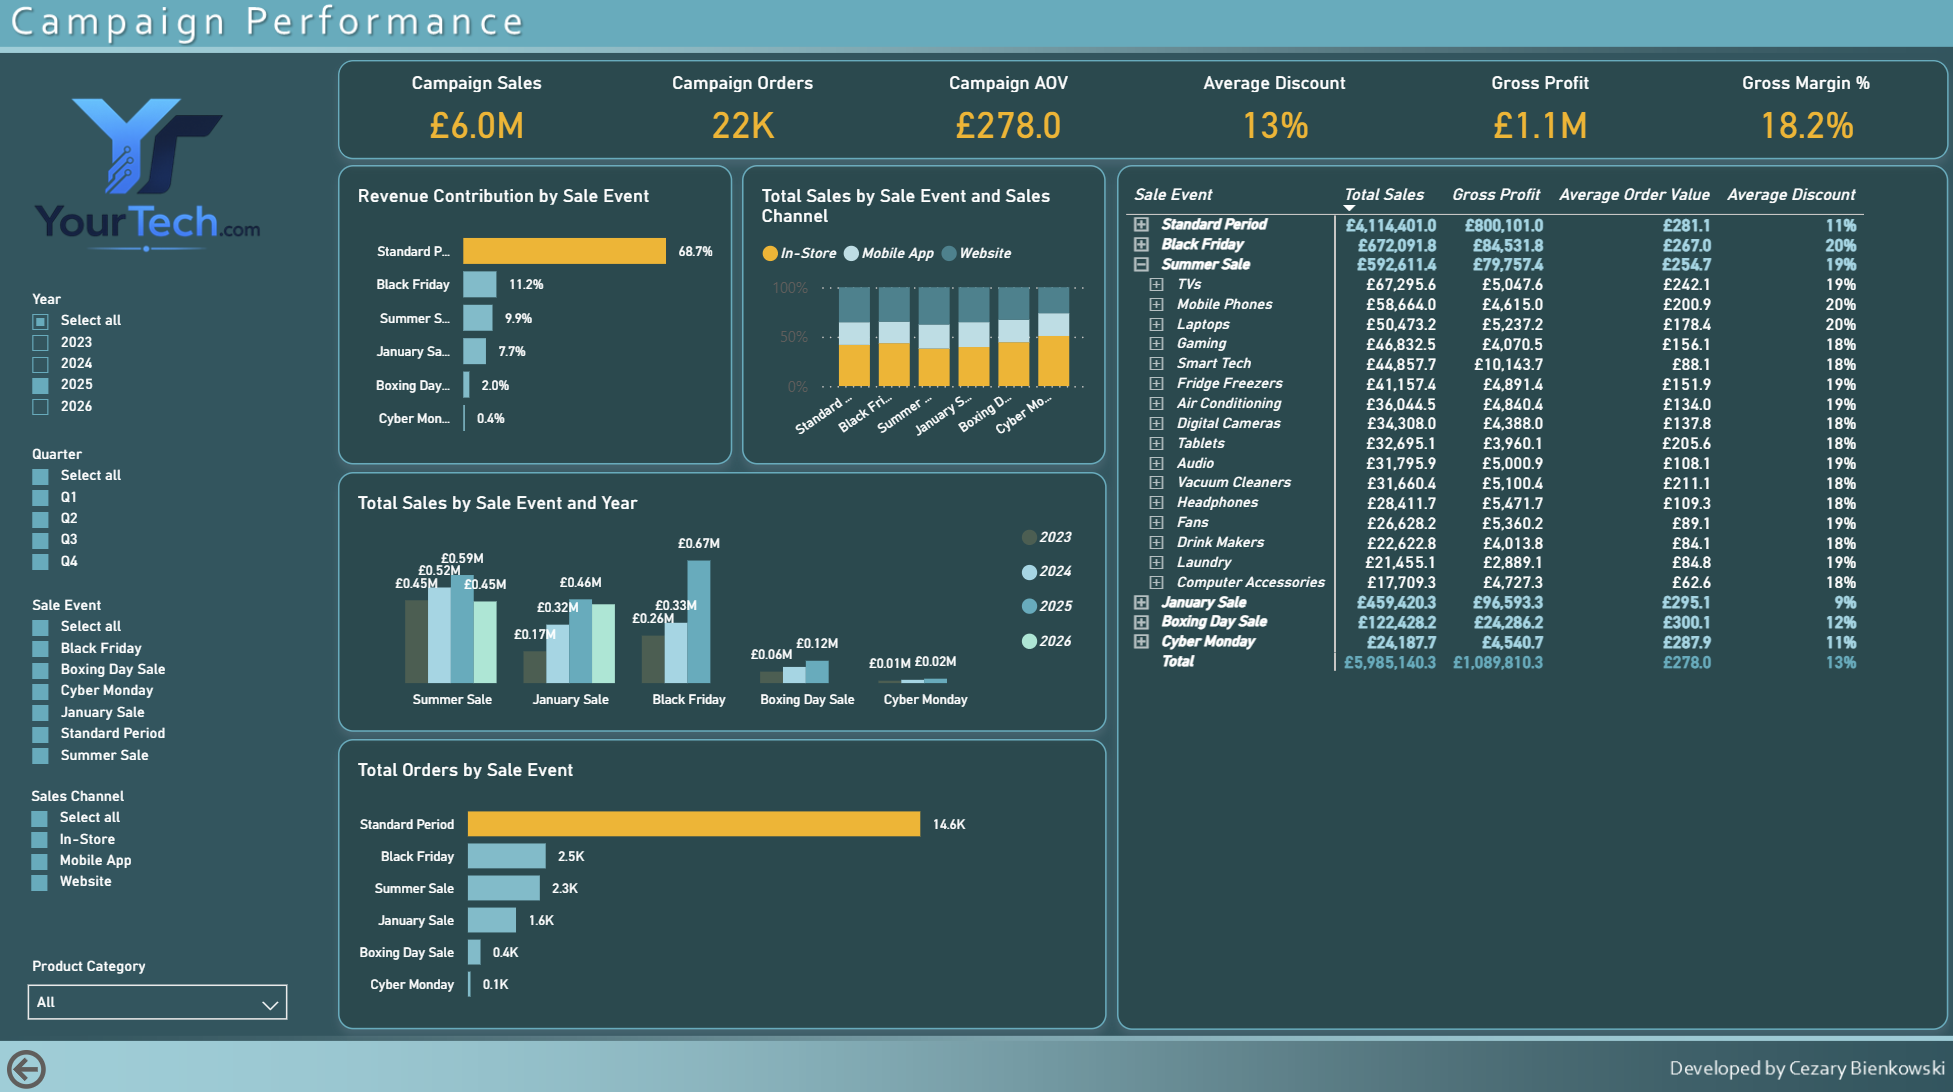

What the dashboard file says about the page in this screenshot:
{"tool":"powerbi","page":{"name":"Campaign Performance","canvas":[1280,720],"ordinal":2},"visuals":[{"type":"barChart","title":"Revenue Contribution by Sale Event","fields":{"Category":["dSale Event.Sale_Event_Name"],"Y":["_Measures.Campaign Sales %"]},"box":[221.2,110.6,258.5,196.3],"z":0},{"type":"barChart","title":"Total Orders by Sale Event","fields":{"Category":["dSale Event.Sale_Event_Name"],"Y":["_Measures.Total Orders"]},"box":[221.2,486.2,502.6,190.4],"z":1000},{"type":"lineChart","fields":{"Category":["dDate.Month"],"Series":["dSale Event.Sale_Event_Name"],"Y":["_Measures.Total Sales"]},"box":[221.2,311.5,502.6,169.5],"z":2000},{"type":"hundredPercentStackedColumnChart","fields":{"Category":["dSale Event.Sale_Event_Name"],"Series":["fSales.Sales Channel"],"Y":["_Measures.Total Sales"]},"box":[485.6,110.6,238.2,196.3],"z":3000},{"type":"pivotTable","fields":{"Rows":["dSale Event.Sale_Event_Name","dProducts.Product Category","dProducts.Product Name"],"Values":["_Measures.Total Sales","_Measures.Gross Profit","_Measures.Average Order Value","_Measures.Average Discount"]},"box":[731,105.4,544.5,566.1],"z":4000},{"type":"cardVisual","fields":{"Data":["_Measures.Campaign Sales","_Measures.Campaign Orders","_Measures.Campaign AOV","_Measures.Average Discount","_Measures.Gross Profit","_Measures.Gross Margin %"]},"box":[221.2,41.9,1054.2,64.8],"z":5000},{"type":"slicer","fields":{"Values":["dDate.Year"]},"box":[13,192.5,179.6,91.6],"z":6000},{"type":"slicer","fields":{"Values":["dDate.Quarter"]},"box":[13,294,179.6,88.7],"z":7000},{"type":"slicer","fields":{"Values":["dSale Event.Sale_Event_Name"]},"box":[13,392.5,179.6,115.4],"z":8000},{"type":"slicer","fields":{"Values":["dProducts.Product Category"]},"box":[13,628.8,180.3,42.5],"z":9000},{"type":"slicer","fields":{"Values":["fSales.Sales Channel"]},"box":[12.4,517.6,180,84.4],"z":10000},{"type":"actionButton","box":[0,685,100.2,34.5],"z":11000}]}

Visuals, with their boxes in screenshot pixels (x1, y1, x2, y2), scaled from the page's 1280x720 canvas onto the 1953x1092 screenshot:
"Revenue Contribution by Sale Event" barChart: {"x1": 338, "y1": 168, "x2": 732, "y2": 465}
"Total Orders by Sale Event" barChart: {"x1": 338, "y1": 737, "x2": 1104, "y2": 1026}
lineChart - dDate.Month x dSale Event.Sale_Event_Name: {"x1": 338, "y1": 472, "x2": 1104, "y2": 730}
hundredPercentStackedColumnChart - dSale Event.Sale_Event_Name x fSales.Sales Channel: {"x1": 741, "y1": 168, "x2": 1104, "y2": 465}
pivotTable - dSale Event.Sale_Event_Name x dProducts.Product Category: {"x1": 1115, "y1": 160, "x2": 1946, "y2": 1018}
cardVisual - _Measures.Campaign Sales x _Measures.Campaign Orders: {"x1": 338, "y1": 64, "x2": 1946, "y2": 162}
slicer - dDate.Year: {"x1": 20, "y1": 292, "x2": 294, "y2": 431}
slicer - dDate.Quarter: {"x1": 20, "y1": 446, "x2": 294, "y2": 580}
slicer - dSale Event.Sale_Event_Name: {"x1": 20, "y1": 595, "x2": 294, "y2": 770}
slicer - dProducts.Product Category: {"x1": 20, "y1": 954, "x2": 295, "y2": 1018}
slicer - fSales.Sales Channel: {"x1": 19, "y1": 785, "x2": 294, "y2": 913}
actionButton: {"x1": 0, "y1": 1039, "x2": 153, "y2": 1091}
